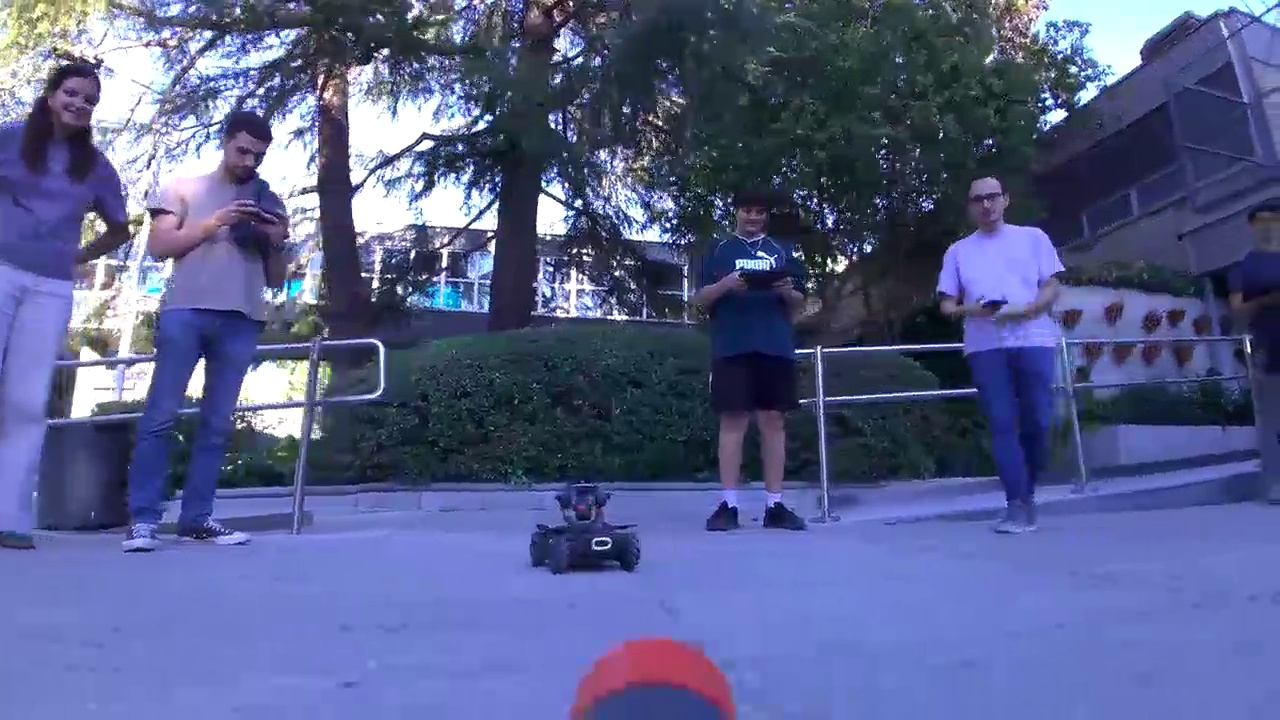robot: (524, 481, 649, 577)
